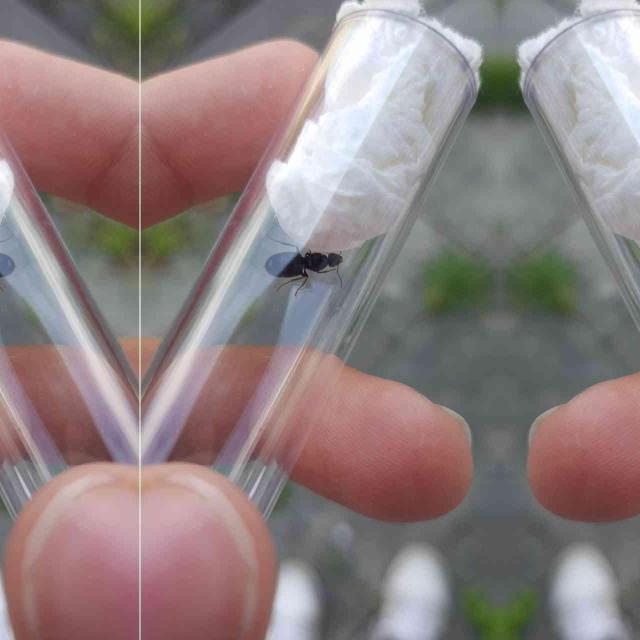Lasius: (262, 228, 348, 286), (0, 227, 16, 284)
